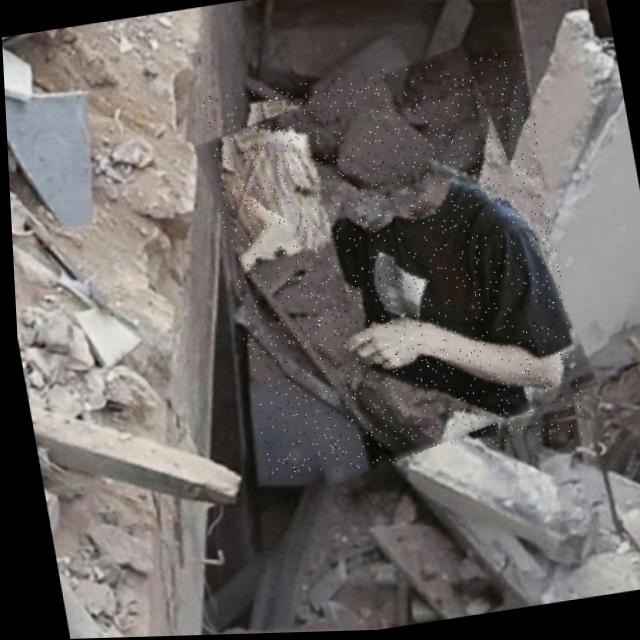Person in Rubble: (198, 50, 585, 484)
